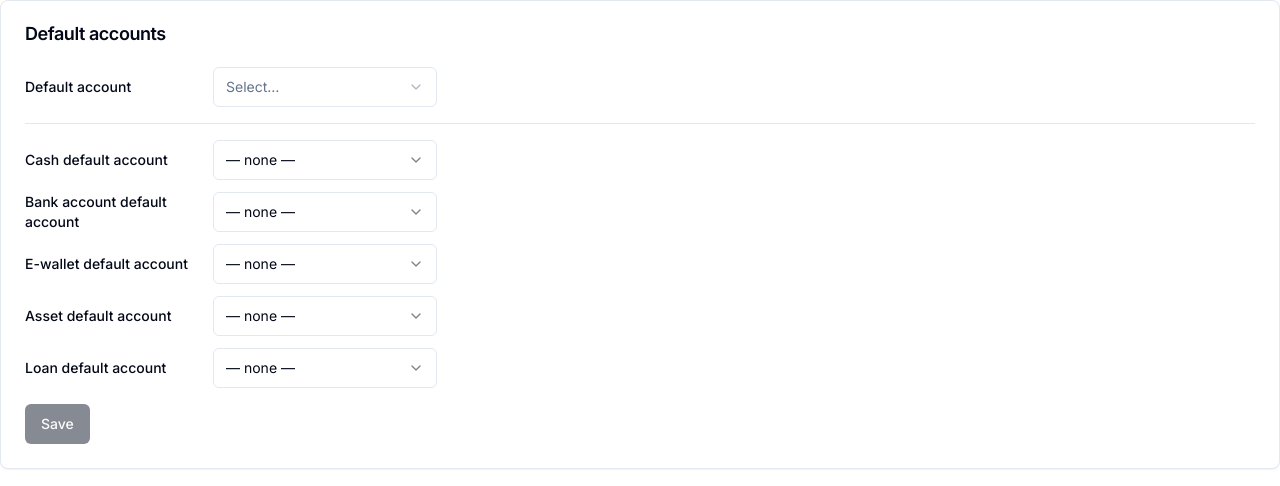
Test case: DefaultAccountsCard › excludes closed and external accounts from the global select
What coordinates should you click on to do the following:
click the dropdown named "Default account"
I would click on:
 (325, 87)
Its box is x1=213 y1=67 x2=437 y2=107.
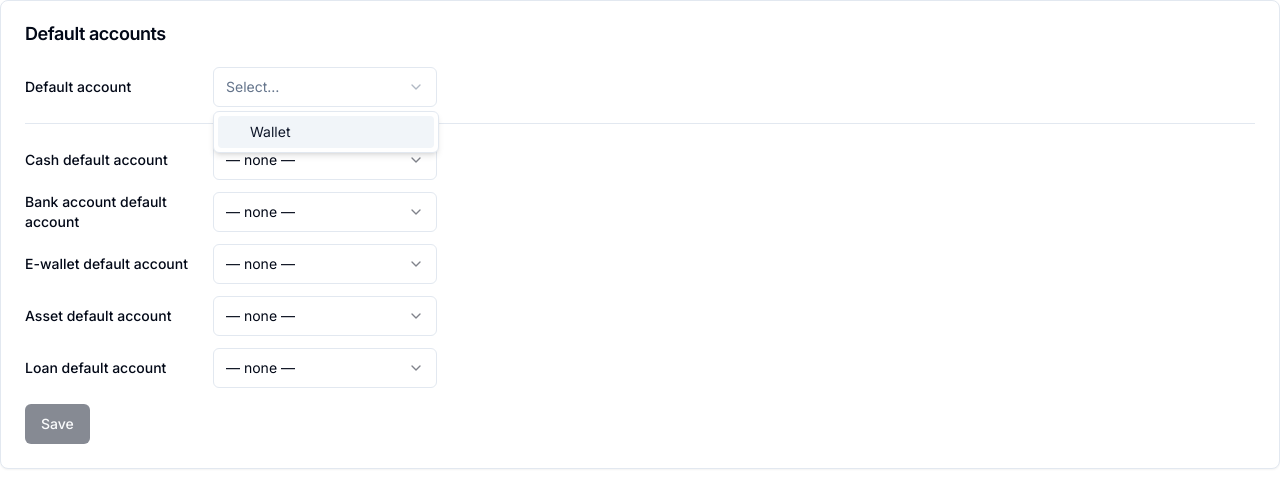
Expected: the option "Wallet" is shown, x1=218 y1=116 x2=434 y2=148
